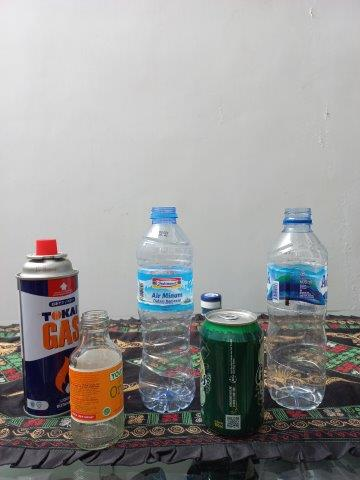botolkaca: (70, 311, 123, 447)
botolplastik: (270, 208, 329, 409), (138, 206, 195, 414)
kaleng: (16, 240, 79, 412), (200, 311, 265, 437)
